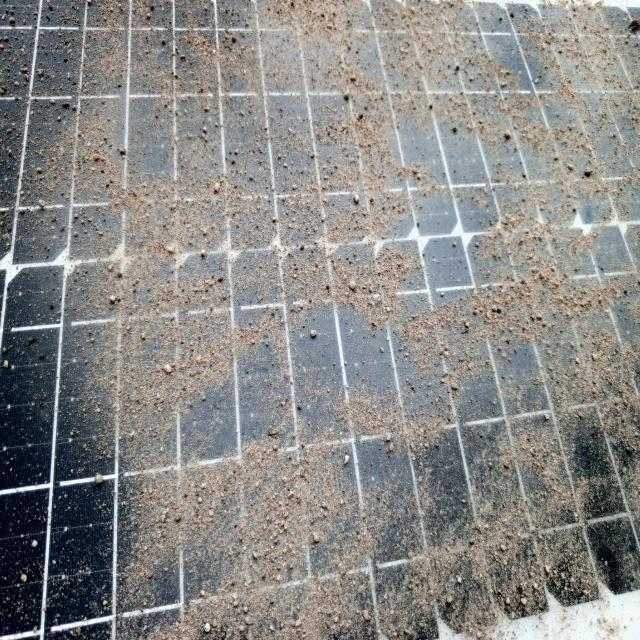Surface Contaminant: (0, 11, 639, 622)
